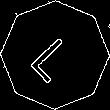L_NE: (26, 26, 84, 84)
